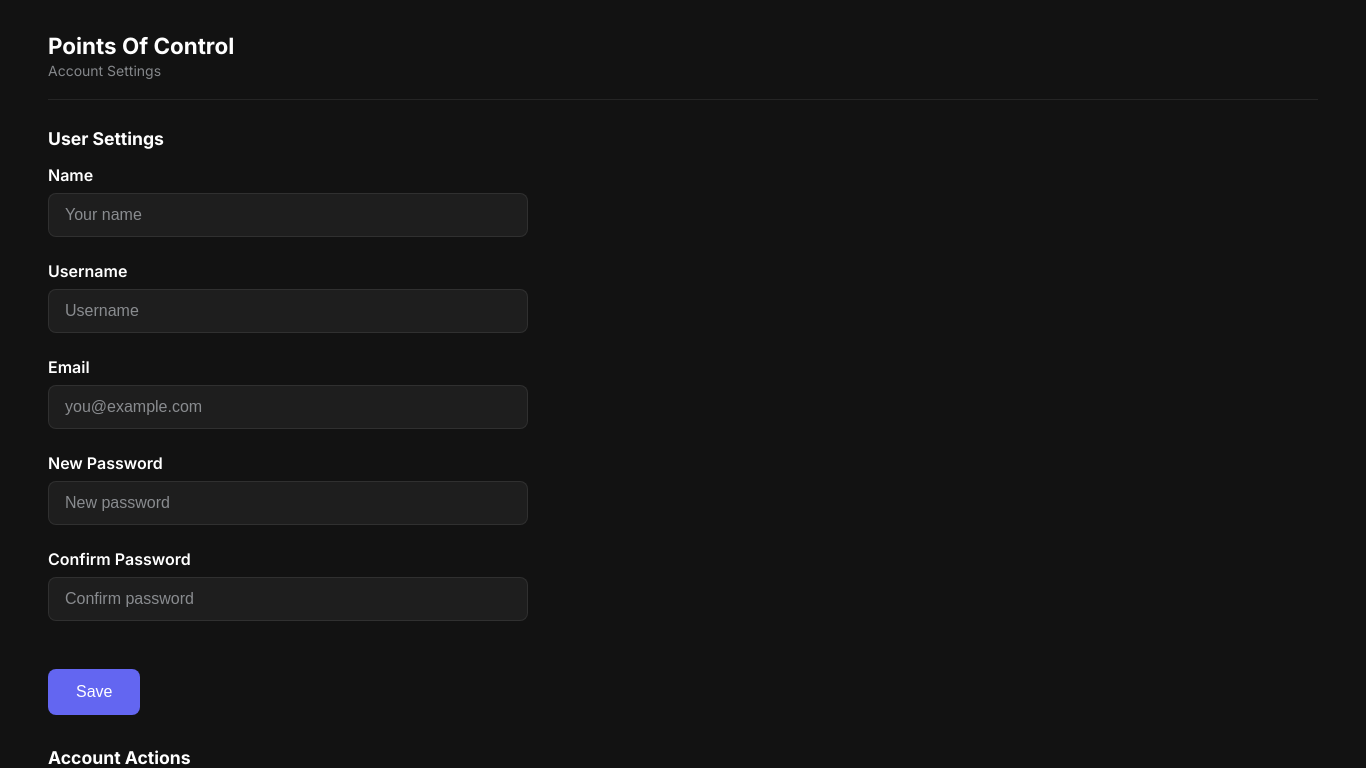
Test: UserSettings component › shows error status on submit when passwords do not match
Step 1. Type "Password1" into the password field labelled "New Password" → {"x": 288, "y": 503}, box [48, 481, 528, 525]
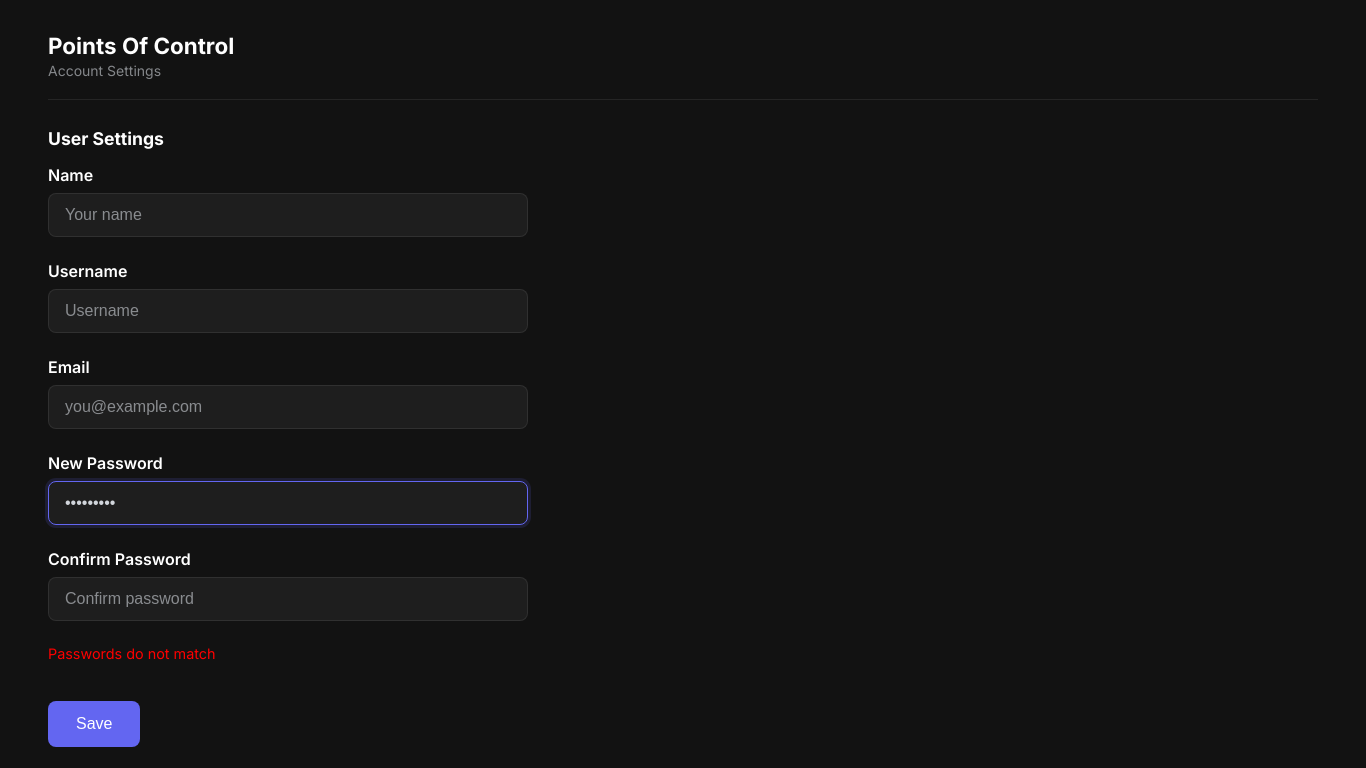
Step 2. Type "Different1" into the password field labelled "Confirm Password" → {"x": 288, "y": 599}, box [48, 577, 528, 621]
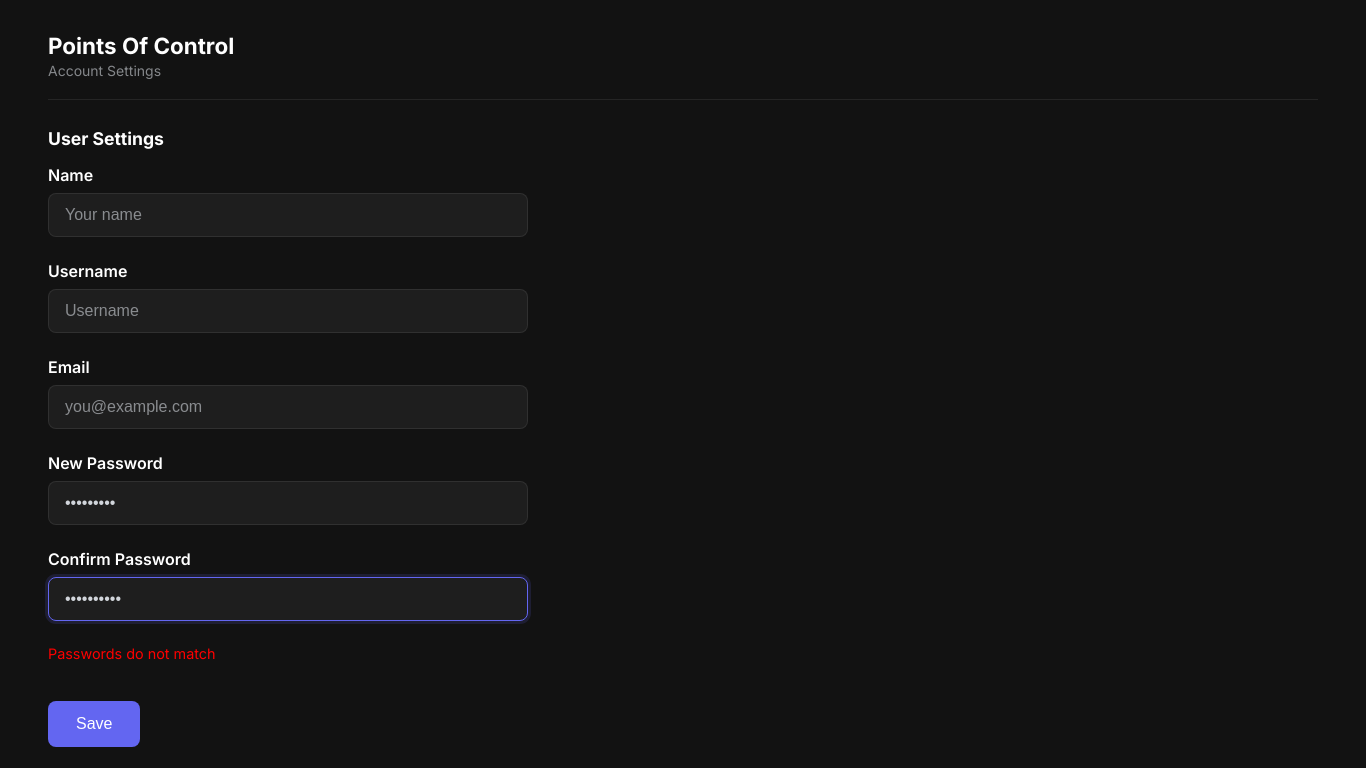
Step 3. Click the button "Save" → {"x": 94, "y": 724}, box [48, 701, 140, 747]
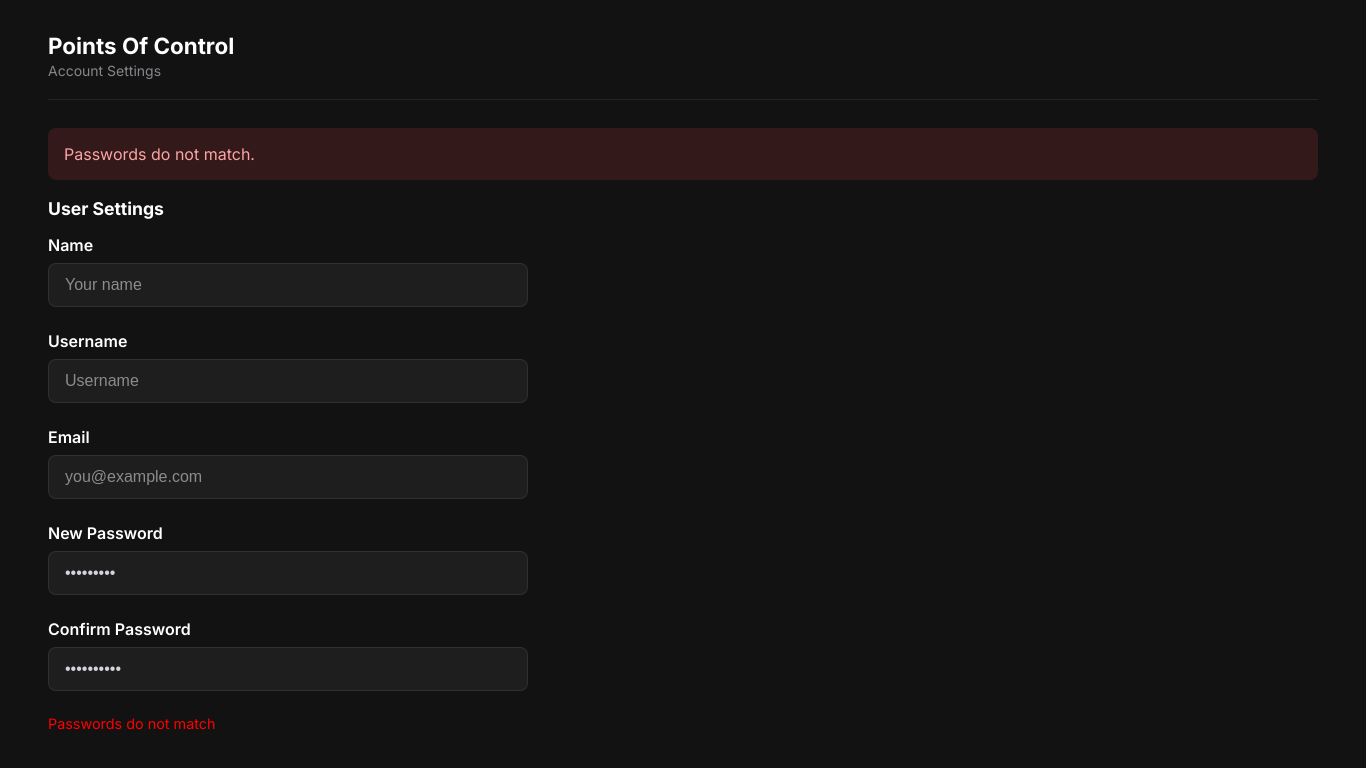
Check: the text "Passwords do not match." is shown, box [48, 128, 1318, 180]
